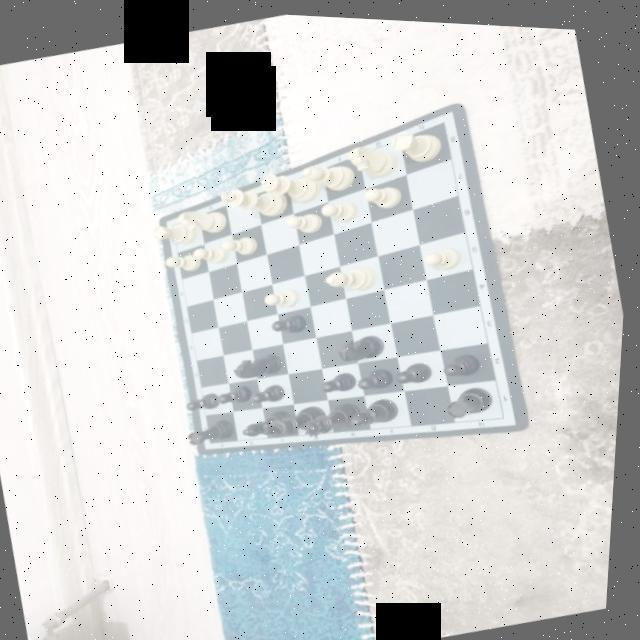chess-table-corners: (434, 111, 452, 125), (500, 406, 515, 419), (208, 435, 222, 446), (169, 218, 181, 228)
